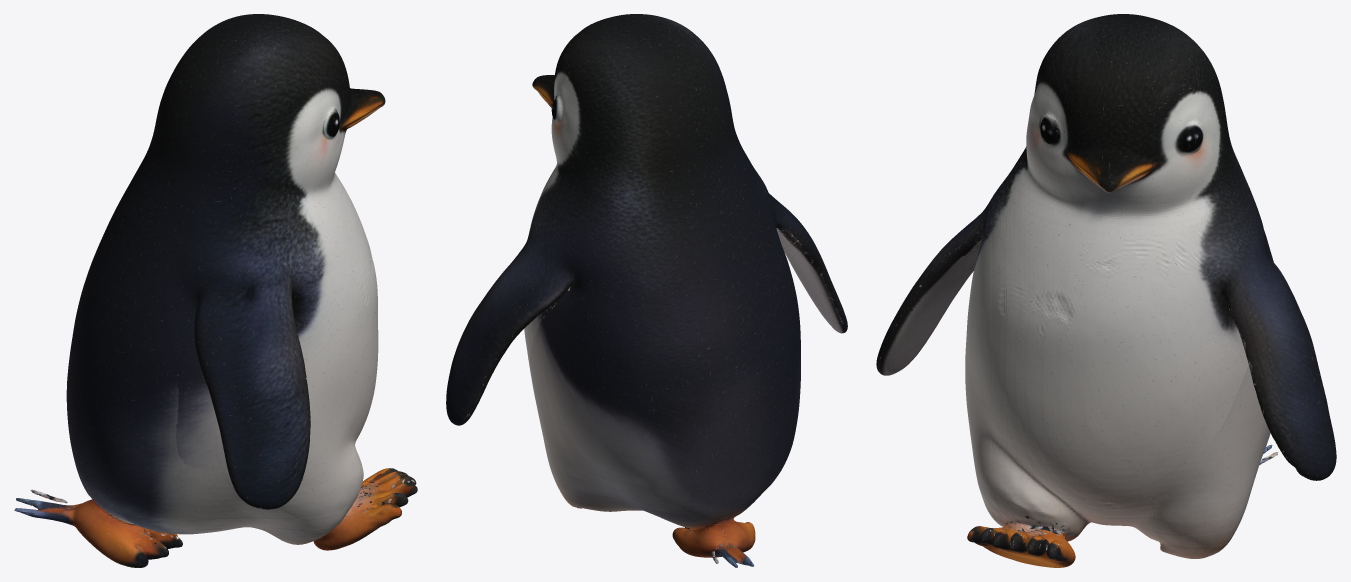
3 views of the same model, side by side, from view 1: azimuth 30°, elevation 25°; view 2: azimuth 150°, elevation 25°; view 3: azimuth 270°, elevation 25° (orthographic). The views are drawn at different scales.
Parts seen in each view (by area): view 1: world; view 2: world; view 3: world.
Part boxes in pixels (left/top/right/bottom): world: left=14, top=14, right=417, bottom=567; world: left=446, top=14, right=847, bottom=567; world: left=876, top=14, right=1336, bottom=567.
Size of the model in its own units: 0.931 by 1.5 by 1.14.
1 material, 1 textured.
